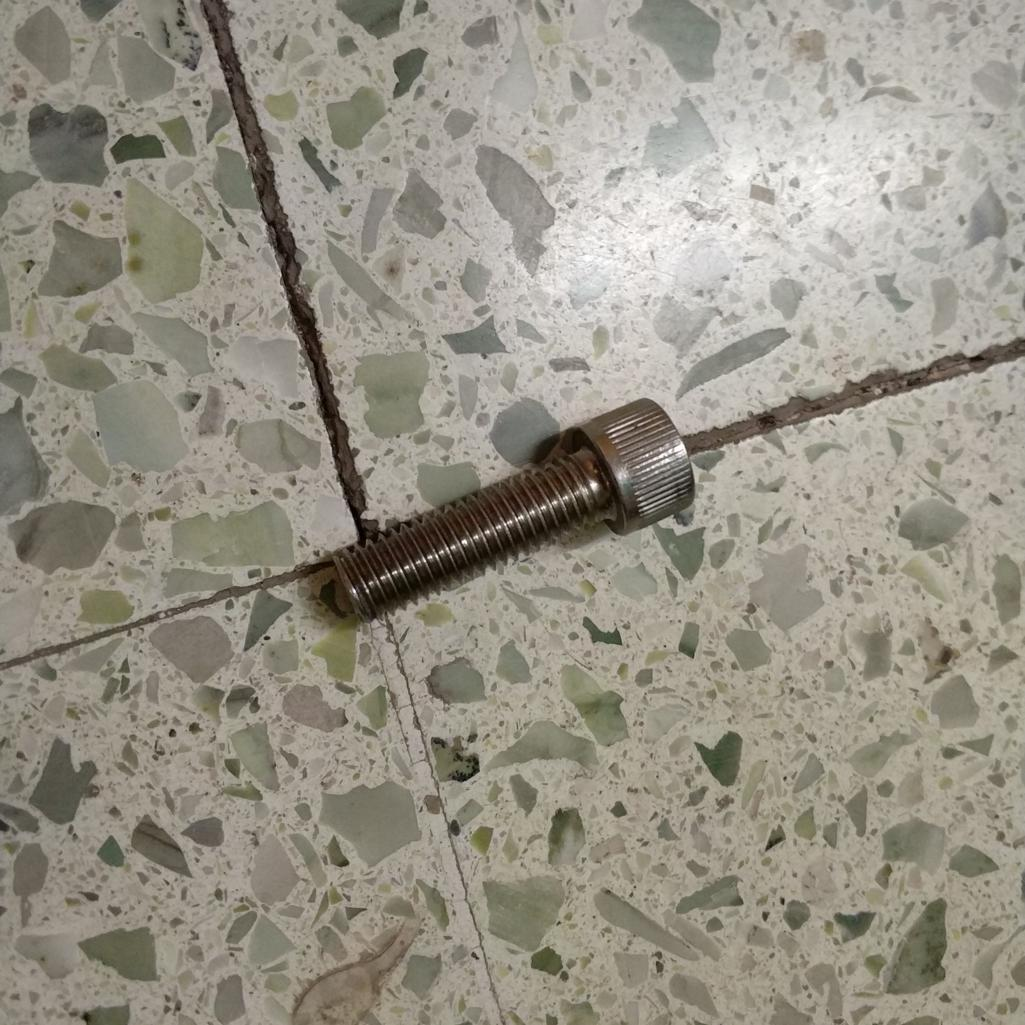screwtype1silver: (298, 400, 702, 611)
